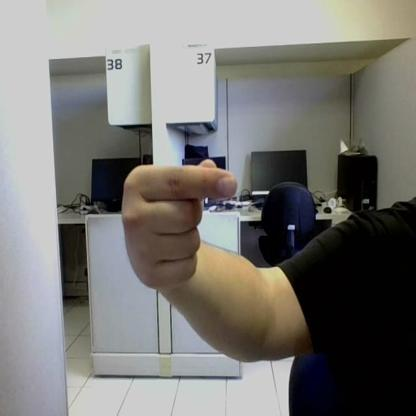G: (122, 164, 236, 290)
